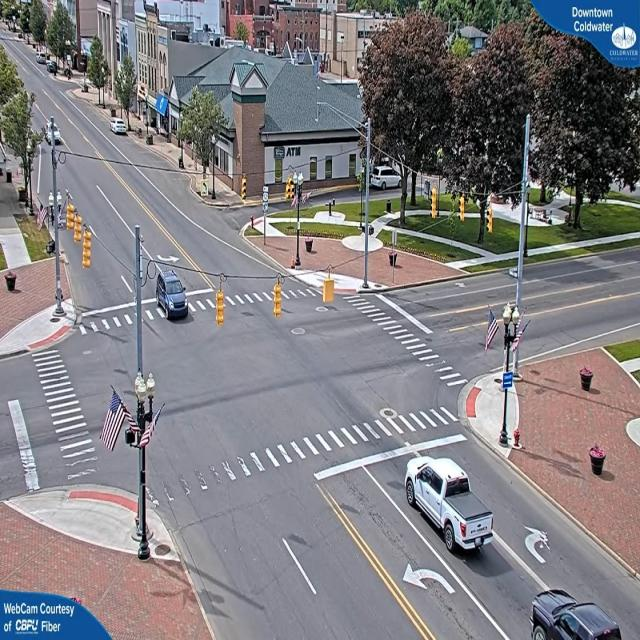car: (407, 454, 498, 558), (528, 592, 633, 640), (154, 273, 190, 321), (111, 119, 129, 136)
